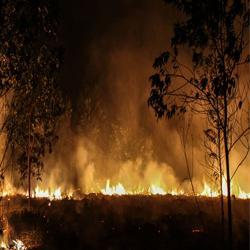fire: (27, 184, 68, 198), (204, 173, 227, 196), (149, 184, 183, 196), (99, 181, 126, 195)
